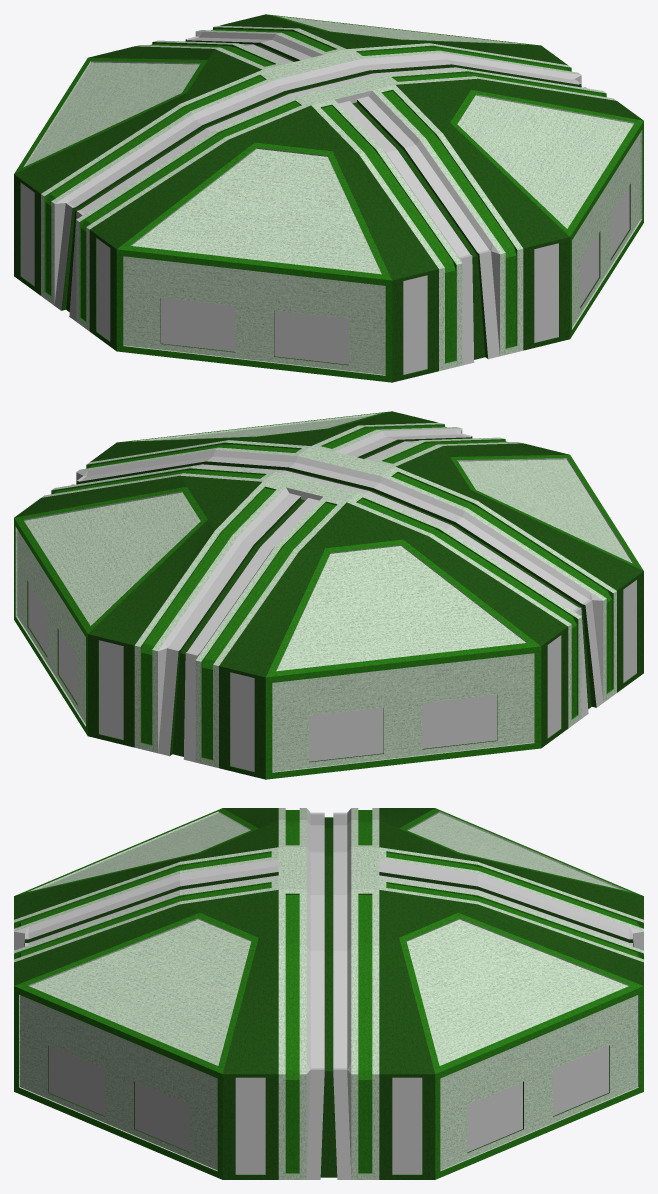
Rendered from lab.fbx.
The picture shows the model from 3 angles, top to bottom: view 1: azimuth 30°, elevation 25°; view 2: azimuth 150°, elevation 25°; view 3: azimuth 270°, elevation 25°; orthographic projection. The views are drawn at different scales.
Parts seen in each view (by area): view 1: Material2.002, Material2.004, Material2.003, Material2.001, Material2.006, Material2.007; view 2: Material2.002, Material2.004, Material2.003, Material2.001, Material2.006, Material2.007; view 3: Material2.002, Material2.004, Material2.003, Material2.001, Material2.006, Material2.007.
Part boxes in pixels (left/top/right/bottom): Material2.002: left=23, top=16, right=642, bottom=375; Material2.004: left=14, top=14, right=643, bottom=382; Material2.003: left=14, top=14, right=643, bottom=382; Material2.001: left=54, top=31, right=586, bottom=365; Material2.006: left=161, top=185, right=629, bottom=364; Material2.007: left=21, top=183, right=558, bottom=374; Material2.002: left=15, top=413, right=634, bottom=772; Material2.004: left=14, top=411, right=643, bottom=779; Material2.003: left=14, top=411, right=643, bottom=779; Material2.001: left=71, top=428, right=603, bottom=762; Material2.006: left=28, top=582, right=496, bottom=761; Material2.007: left=99, top=580, right=636, bottom=771; Material2.002: left=14, top=808, right=643, bottom=1179; Material2.004: left=14, top=808, right=643, bottom=1179; Material2.003: left=14, top=808, right=643, bottom=1179; Material2.001: left=14, top=808, right=643, bottom=1179; Material2.006: left=49, top=1045, right=608, bottom=1152; Material2.007: left=235, top=1077, right=422, bottom=1174.
Bounding box in the file's own units: 4906 × 1532 × 4906.
